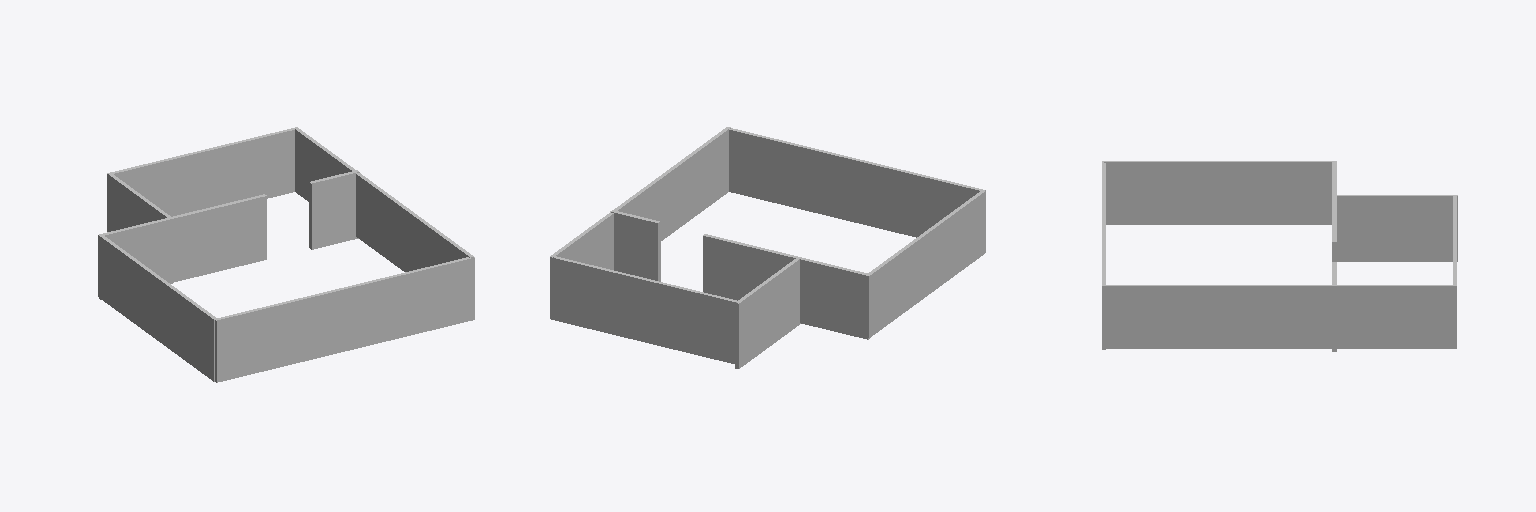
Rendered from ShipScene_11.obj.
3 renders of one model, left to right at view 1: azimuth 30°, elevation 25°; view 2: azimuth 150°, elevation 25°; view 3: azimuth 270°, elevation 25°, orthographic.
Size of the model in its own units: 426 by 105 by 508.